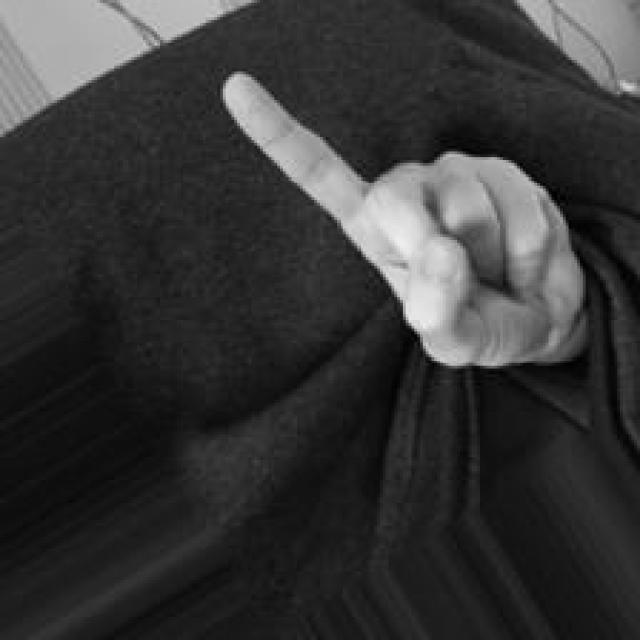I: (218, 65, 597, 374)
